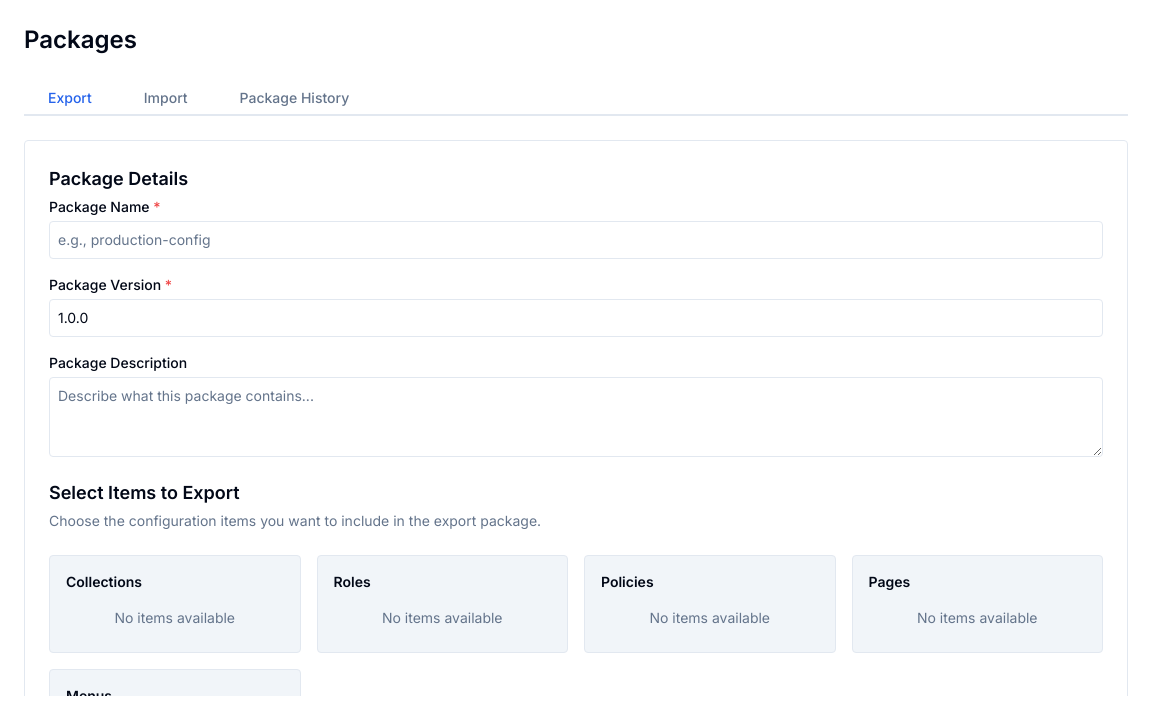
Scenario: PackagesPage › Tab Navigation › switches to import panel when import tab is clicked
The width and height of the screenshot is (1152, 720).
Click the tab with test id "tab-import" at (166, 98), box [120,80,212,116]
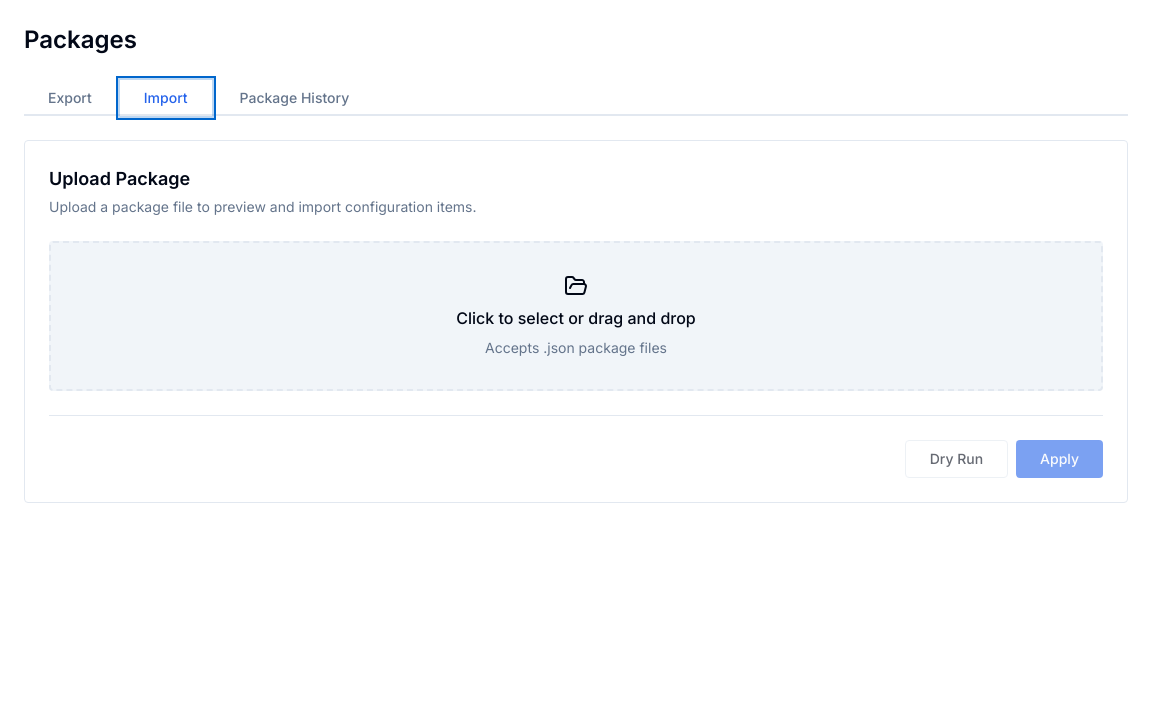
expect the element with test id "import-panel" is shown: met, box [24,140,1128,503]
